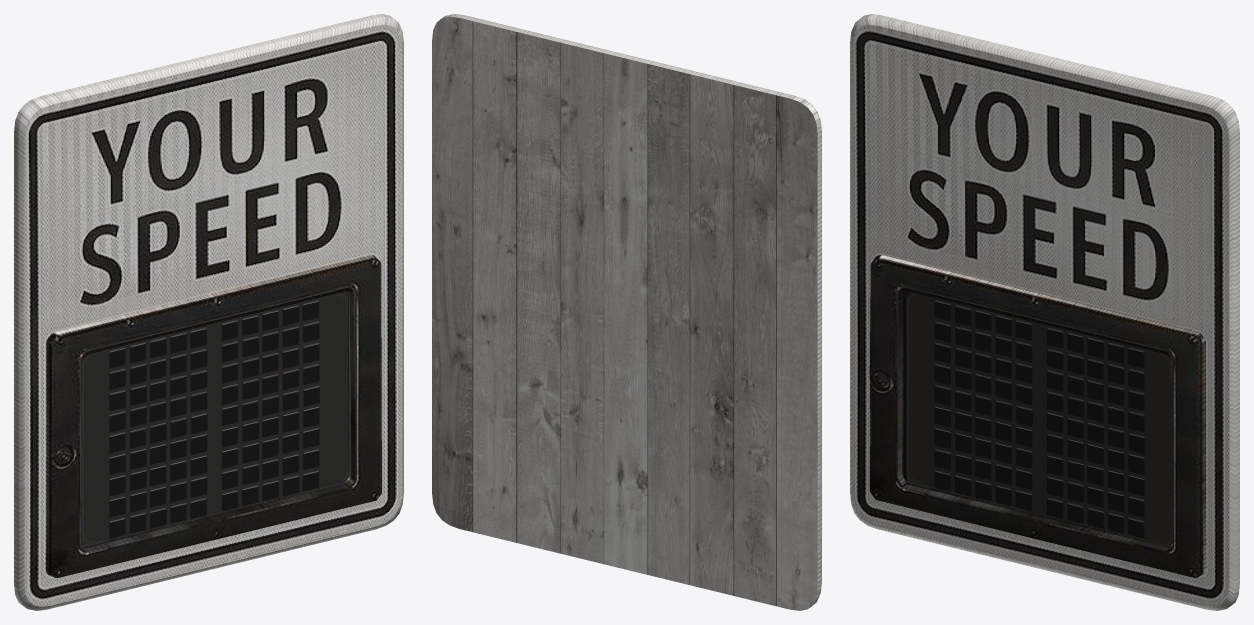
Rendered from Sign_Panel.FBX.
The picture shows the model from 3 angles, left to right: view 1: azimuth 30°, elevation 25°; view 2: azimuth 150°, elevation 25°; view 3: azimuth 330°, elevation 25°; orthographic projection.
Parts seen in each view (by area): view 1: Sign_Panel; view 2: Sign_Panel; view 3: Sign_Panel.
Boxes of the visible parts, x1,y1,x2,y2 form: Sign_Panel: (14, 14, 403, 610); Sign_Panel: (432, 14, 821, 610); Sign_Panel: (850, 14, 1239, 610).
Bounding box in the file's own units: 139 × 176 × 7.57.
2 materials, 2 textured.
